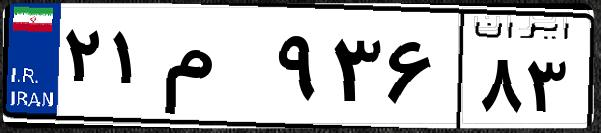1: (110, 28, 158, 98)
2: (57, 26, 110, 100)
3: (330, 28, 385, 110), (525, 38, 570, 115)
6: (385, 28, 445, 110)
8: (475, 38, 525, 113)
9: (270, 28, 330, 110)
م: (158, 20, 270, 120)
